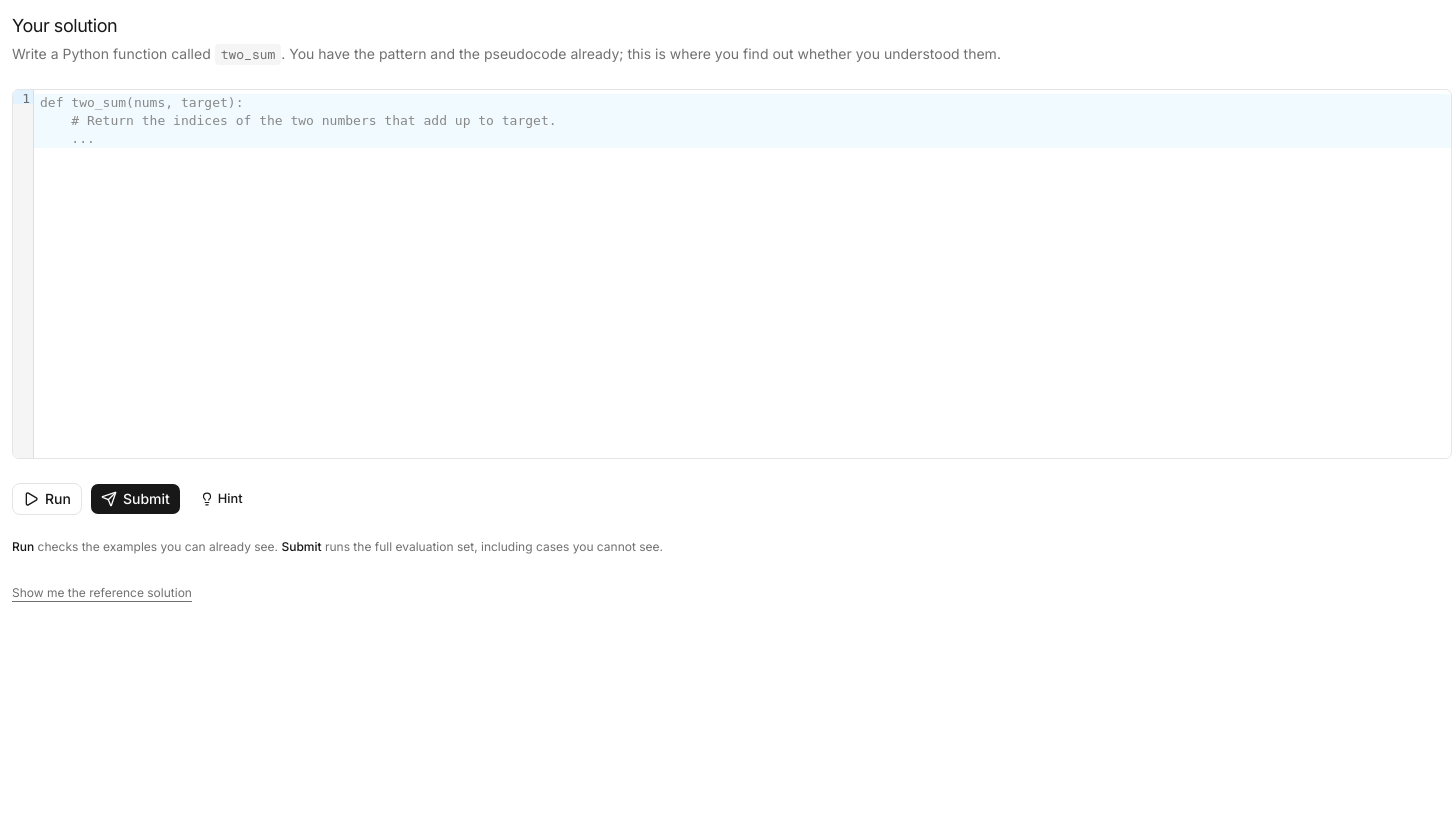
it: when the code fails › shows expected beside actual, so there is something to reason about
This screenshot has width=1452, height=822.
Click the button "Submit" at (135, 499), box [90,483,181,515]
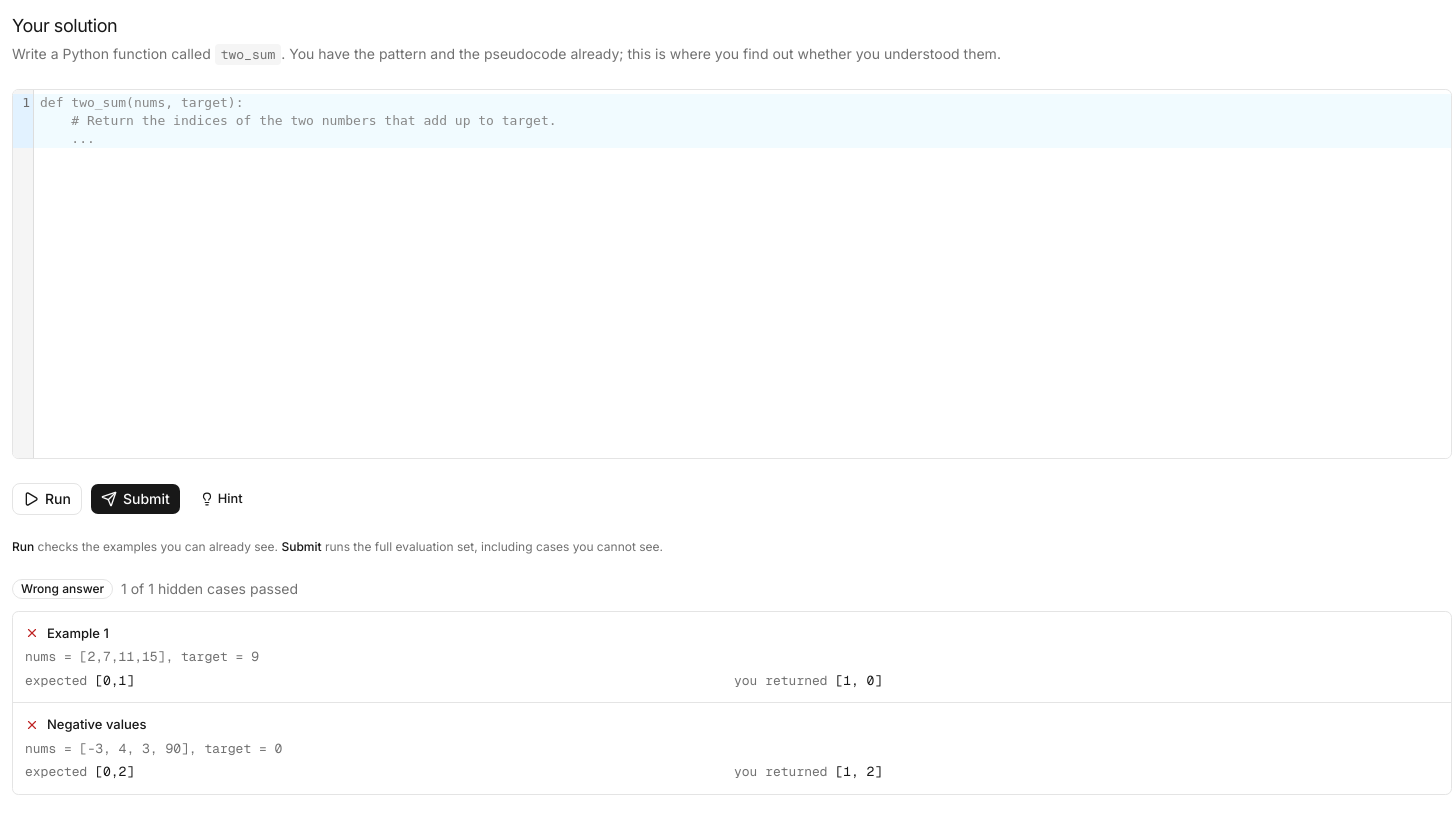
Expected: the text "Wrong answer" is shown, [12,579,113,599]
